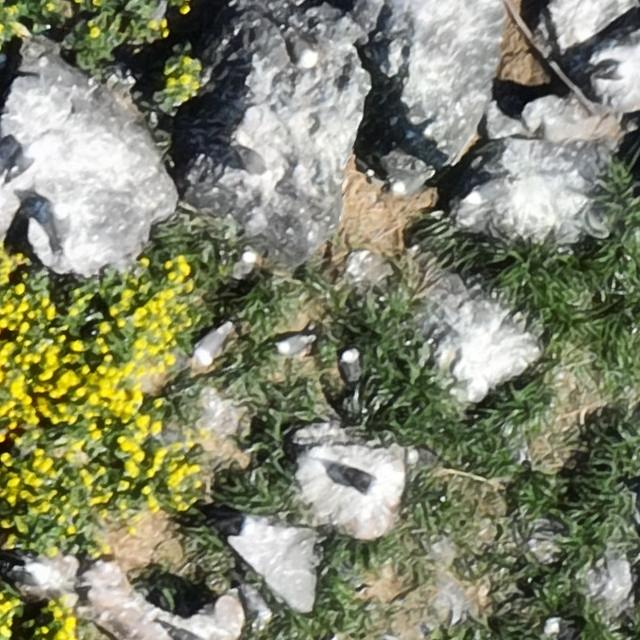umineko: (230, 129, 271, 179), (278, 22, 316, 70), (389, 164, 436, 198), (42, 198, 72, 248), (588, 58, 630, 84), (194, 326, 226, 360), (334, 468, 374, 492), (9, 147, 36, 175), (278, 334, 310, 354), (340, 351, 359, 384), (233, 252, 254, 280)
